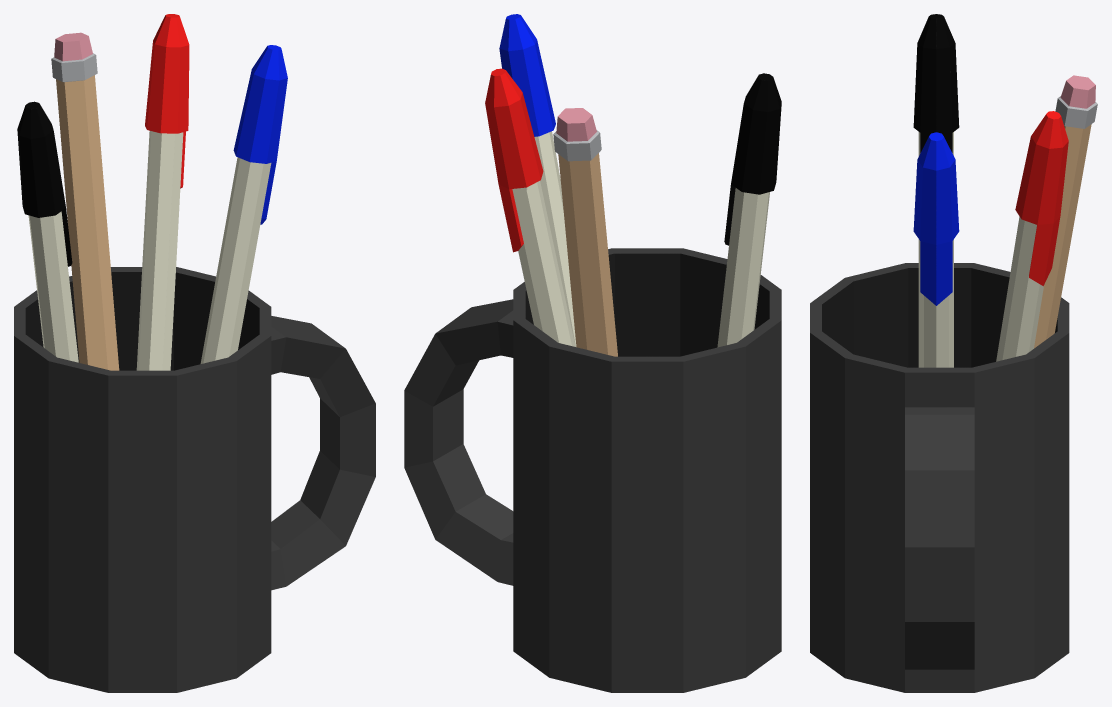
The model's file is Mug&Pencil_Black.fbx.
The picture shows the model from 3 angles, left to right: view 1: azimuth 30°, elevation 25°; view 2: azimuth 150°, elevation 25°; view 3: azimuth 270°, elevation 25°; orthographic projection. The views are drawn at different scales.
Parts seen in each view (by area): view 1: Mug/Pencil.005; view 2: Mug/Pencil.005; view 3: Mug/Pencil.005.
Part boxes in pixels (<box>): Mug/Pencil.005: <box>14,14,375,692</box>; Mug/Pencil.005: <box>404,14,781,692</box>; Mug/Pencil.005: <box>810,14,1097,692</box>.
Size of the model in its own units: 11.25 by 17.73 by 8.14.
